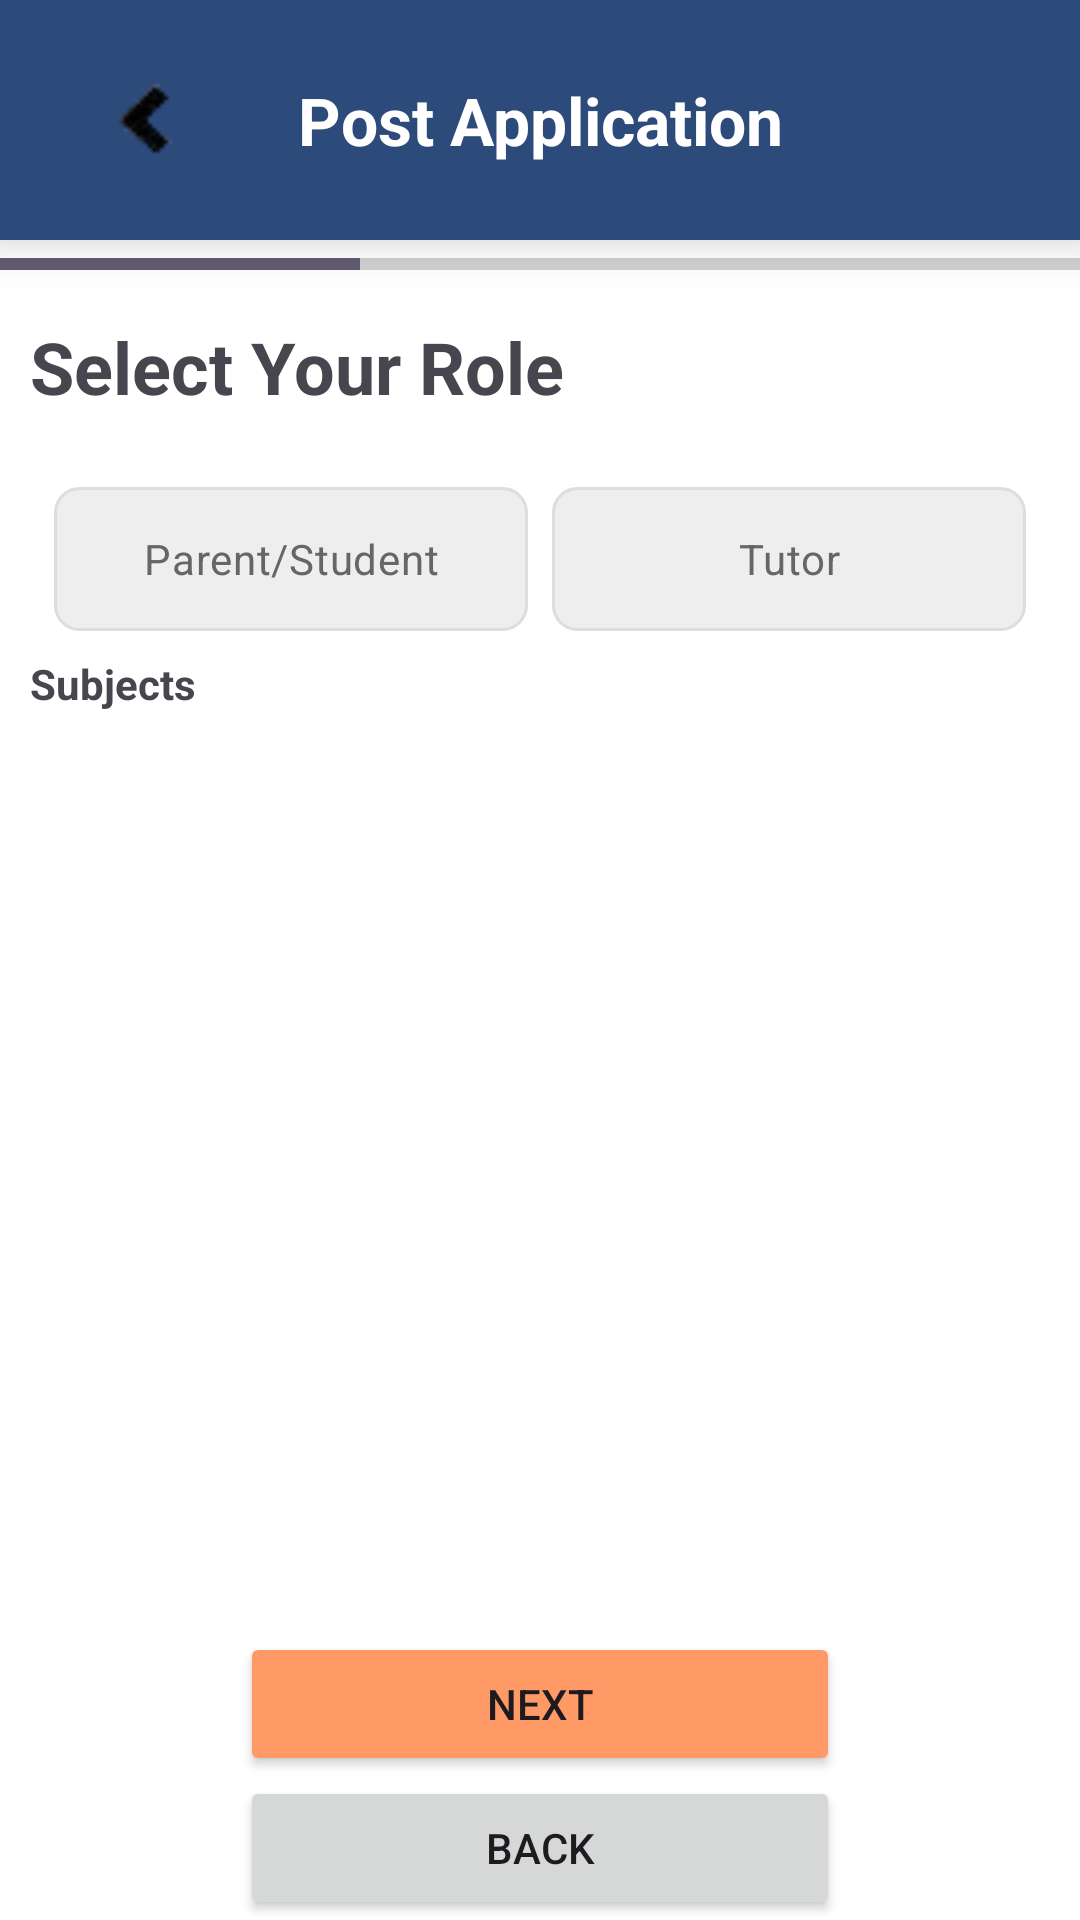

Icons on this 1080*1920 Android screen, each with its box as (x1, y1, x2, y2):
exit: (120, 85, 169, 153)
